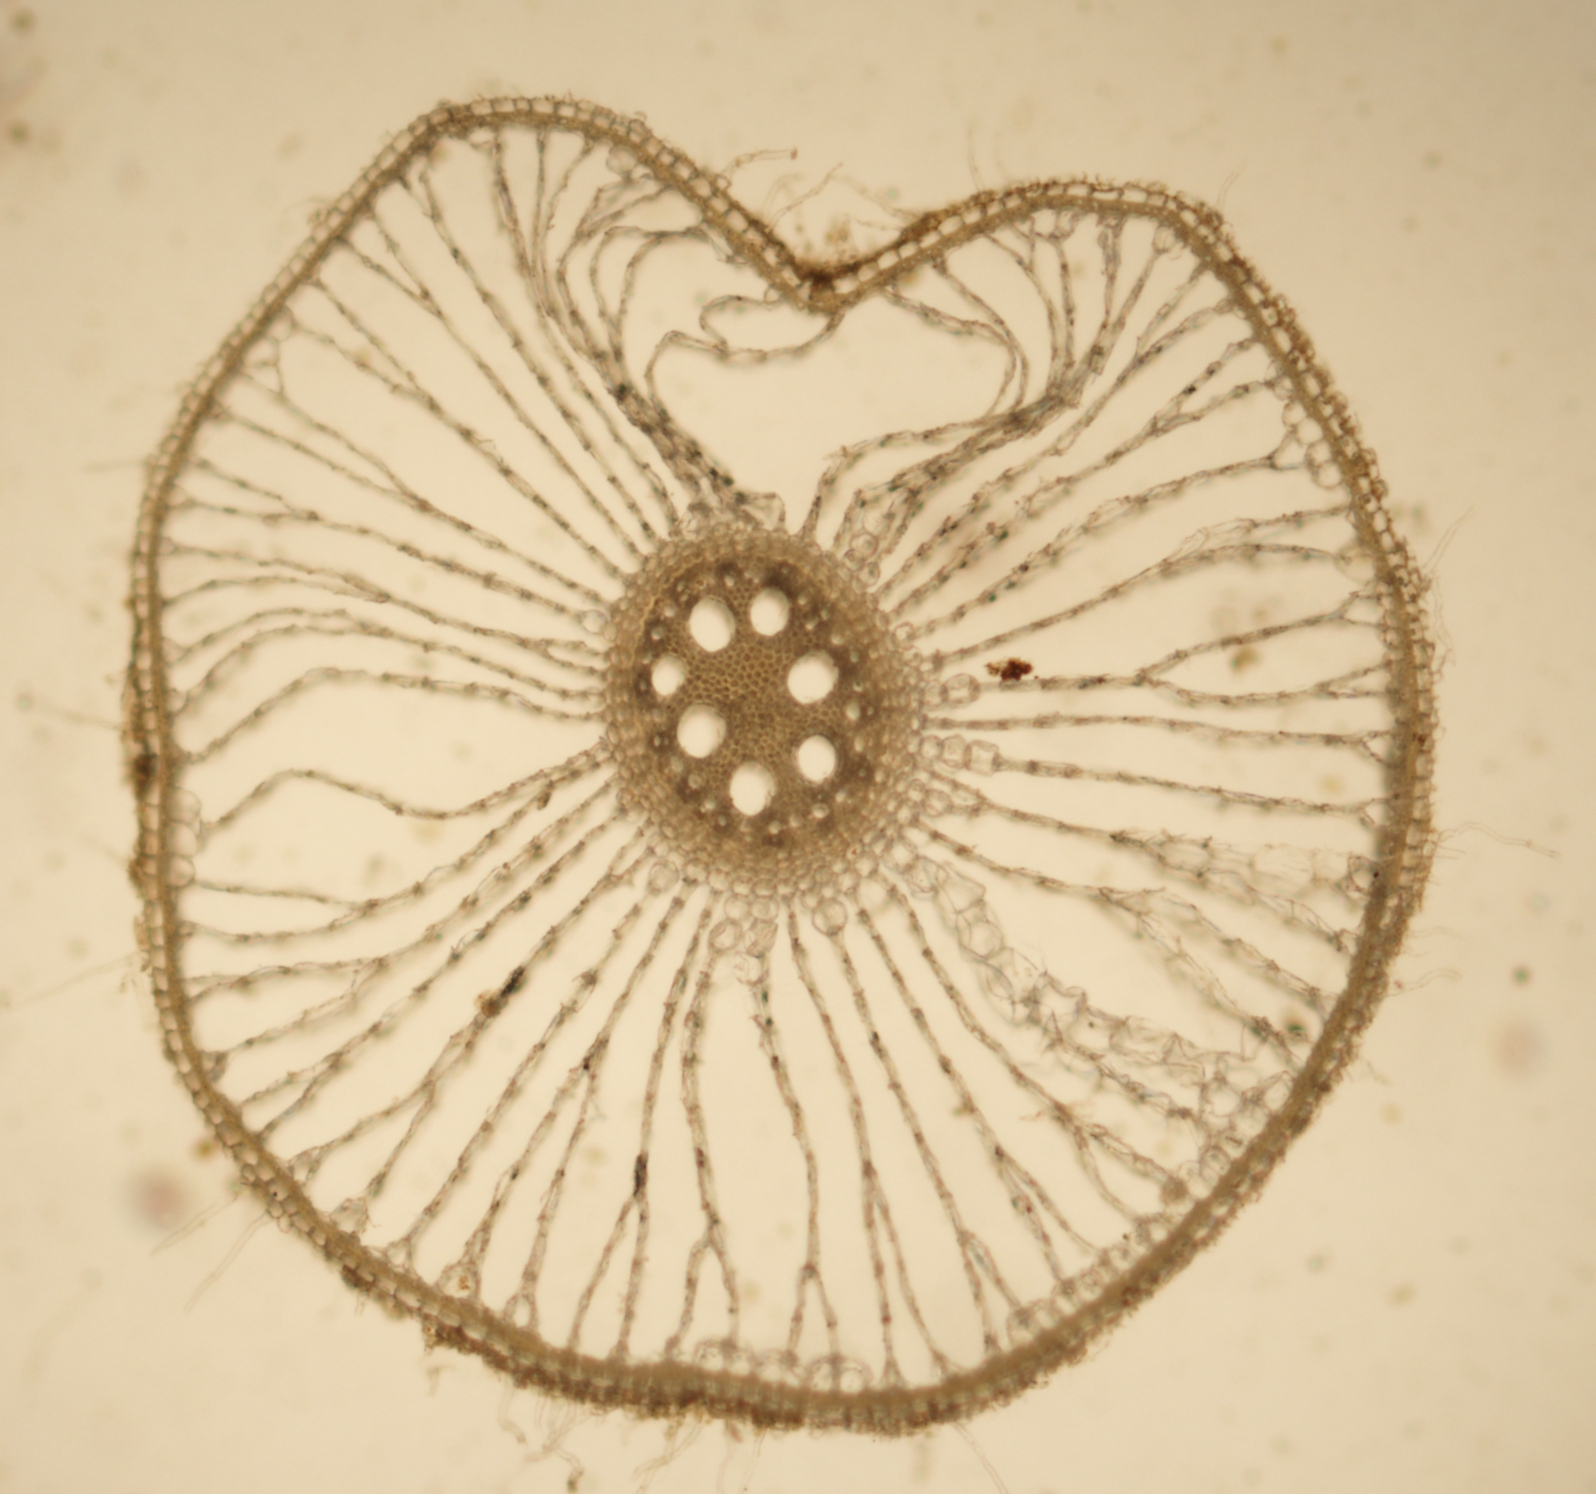lm: (786, 649, 839, 705), (677, 701, 727, 760), (729, 760, 778, 816), (688, 594, 736, 652), (750, 588, 792, 637), (797, 734, 837, 784), (651, 653, 686, 695)
